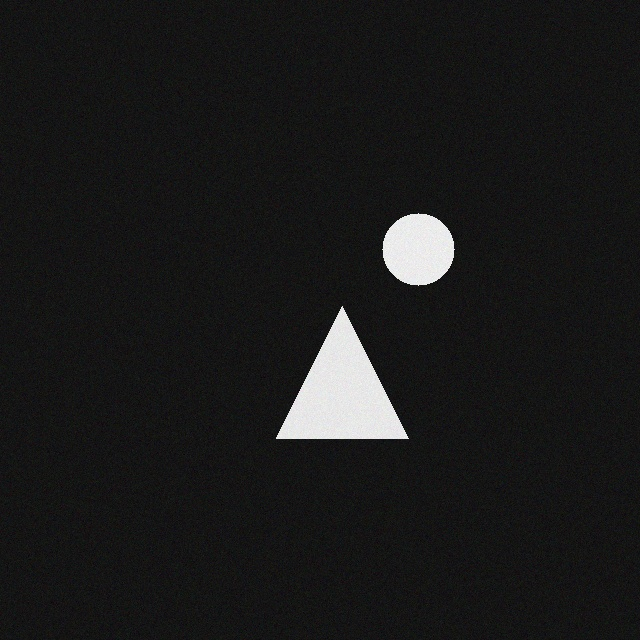circle: (375, 226, 447, 298)
triangle: (269, 319, 401, 451)
